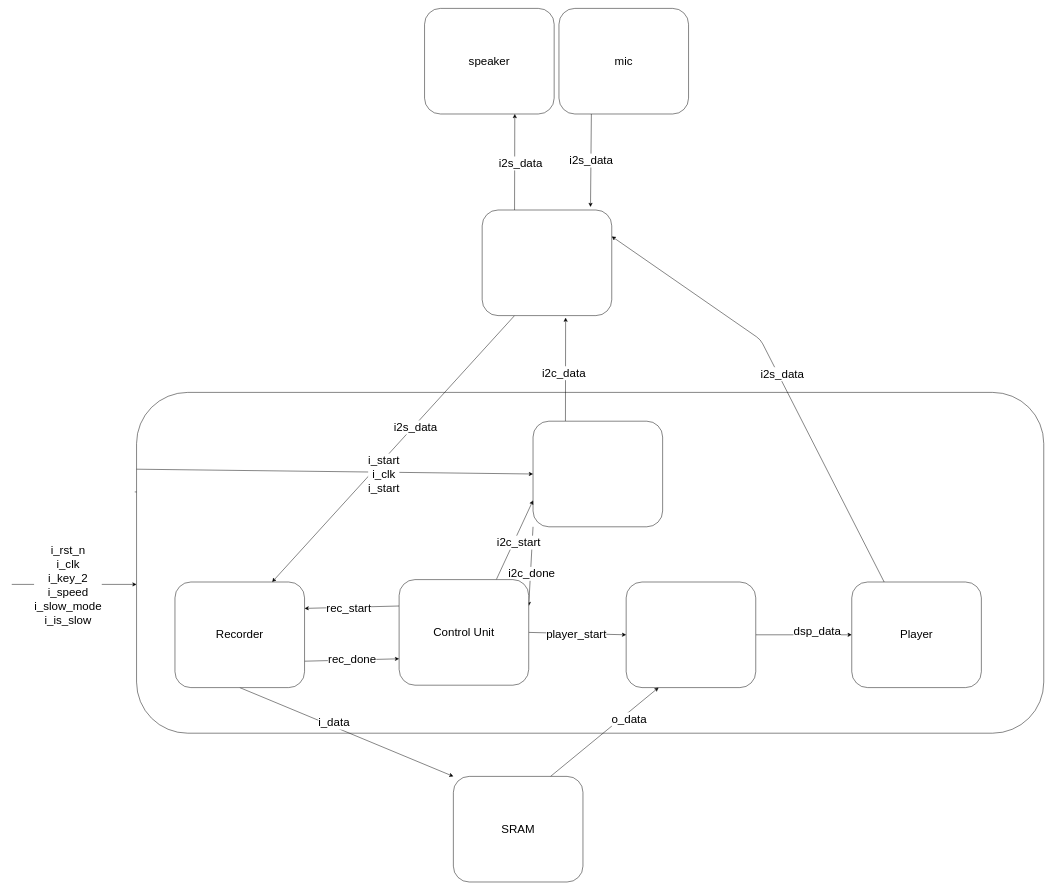
Image size: 1052x890. Some labels were removed from this diagram. The shapes that lost their labels are listed below. From the top down, each one's centre as x and y in pixels, then its label:
At point 547,263: "WM 8731".
At point 598,474: "i2c initializer".
At point 691,635: "DSP".
